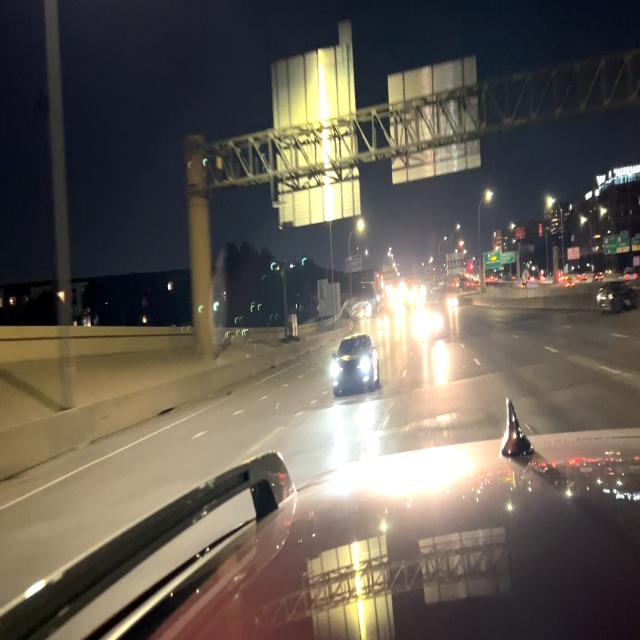back-of-sign: (269, 21, 361, 230), (387, 53, 483, 187), (316, 275, 343, 323), (447, 249, 466, 278)
